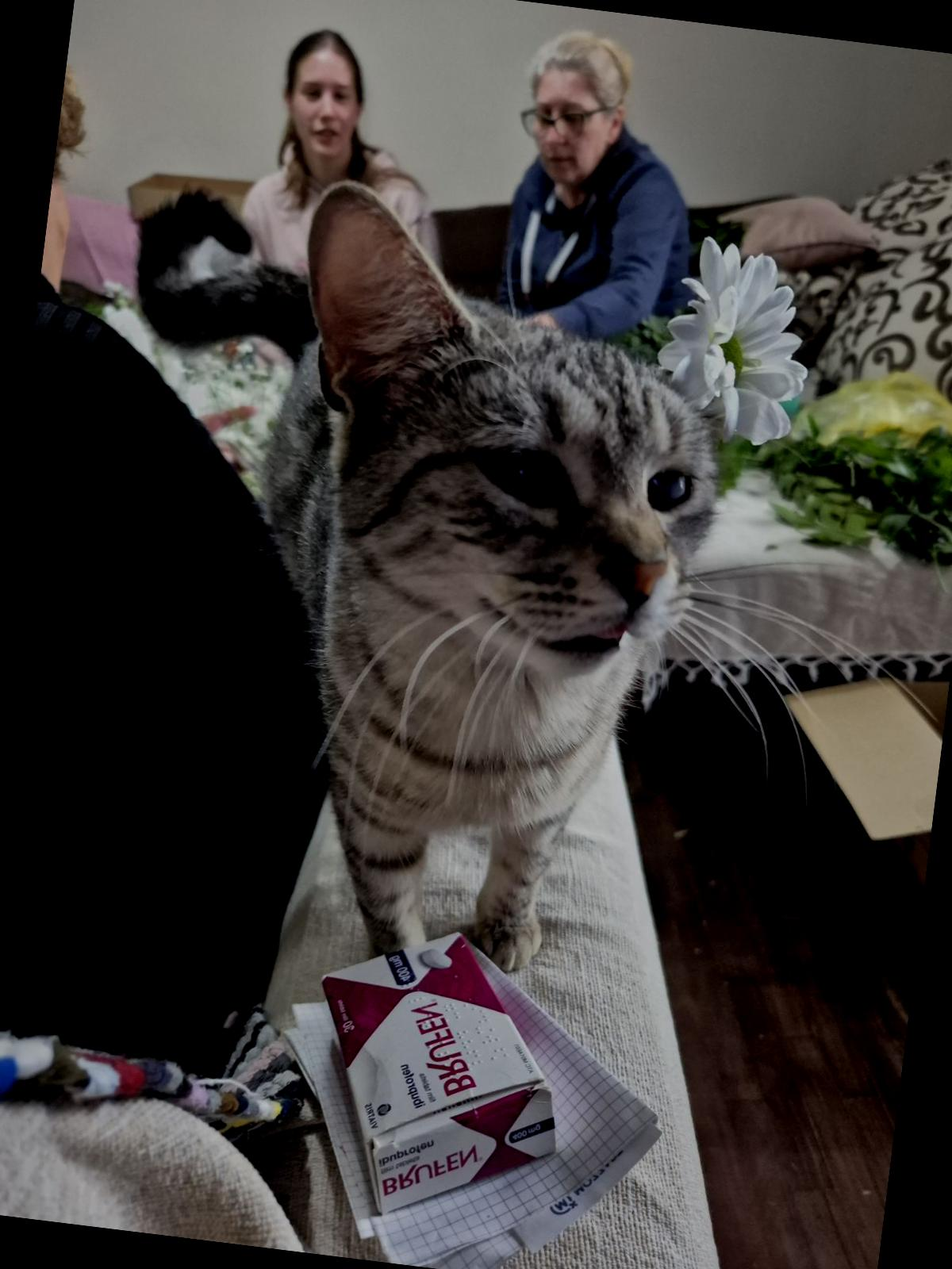macka: (200, 170, 743, 987)
